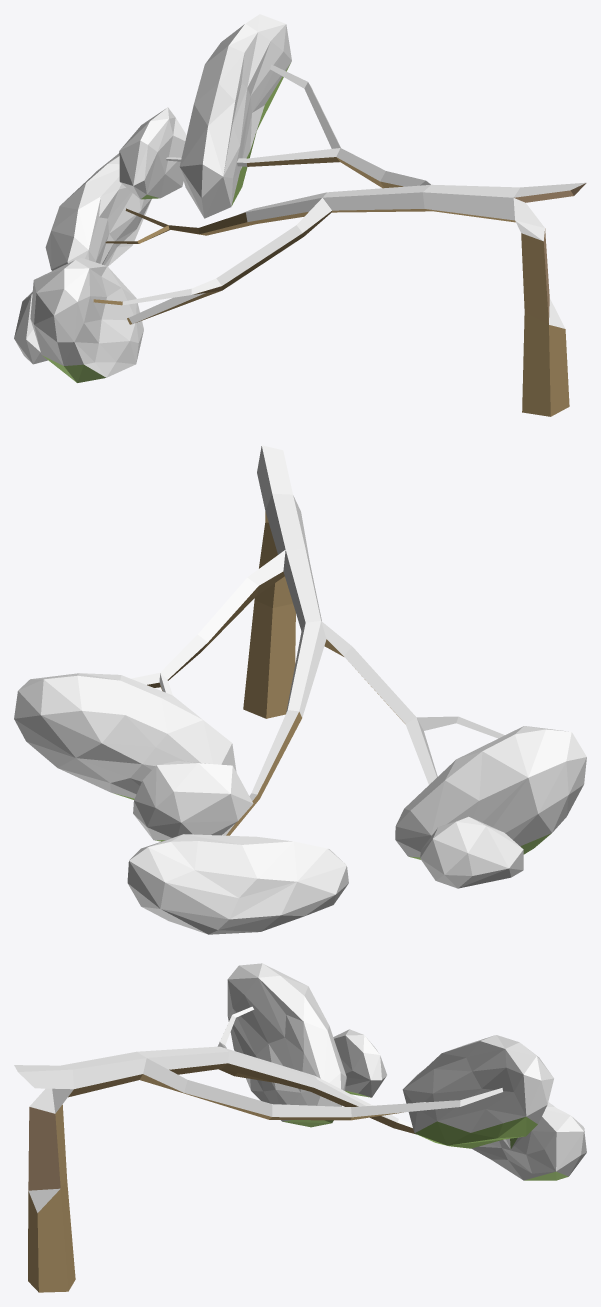
The model's file is Acacia_Tree_crk_l_Snow_04_LOD.fbx.
The picture shows the model from 3 angles, top to bottom: view 1: azimuth 30°, elevation 25°; view 2: azimuth 150°, elevation 25°; view 3: azimuth 270°, elevation 25°; orthographic projection. The views are drawn at different scales.
Parts seen in each view (by area): view 1: Acacia_Tree_crk_l_Snow_04_LOD0; view 2: Acacia_Tree_crk_l_Snow_04_LOD0; view 3: Acacia_Tree_crk_l_Snow_04_LOD0.
Boxes of the visible parts, x1,y1,x2,y2 form: Acacia_Tree_crk_l_Snow_04_LOD0: (14, 14, 586, 416); Acacia_Tree_crk_l_Snow_04_LOD0: (14, 445, 586, 934); Acacia_Tree_crk_l_Snow_04_LOD0: (14, 963, 586, 1292).
Size of what is drawn, in the model's own units: 688 by 358 by 832.
